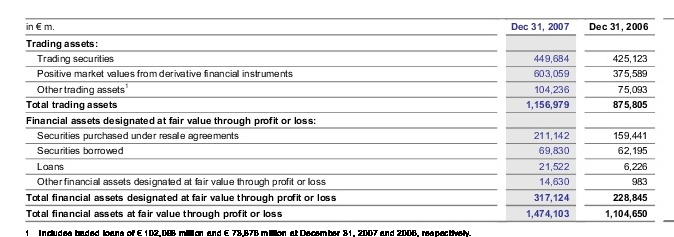table: (0, 0, 674, 237)
